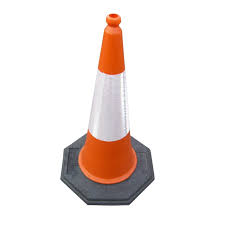cones: (63, 13, 155, 207)
